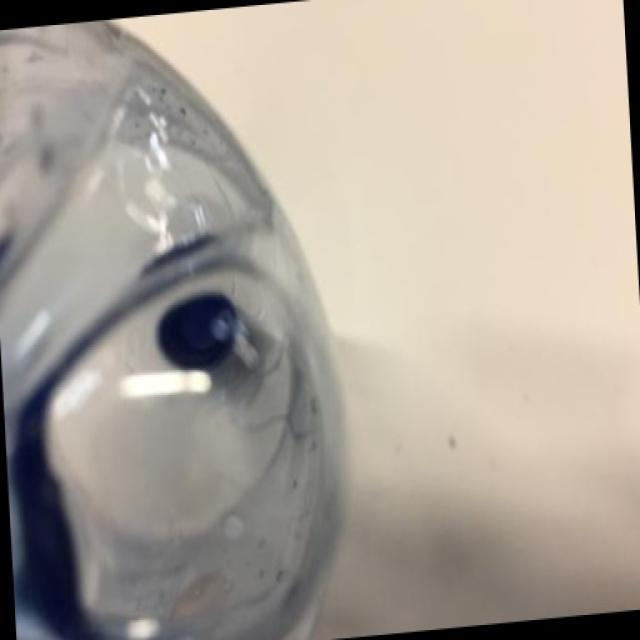plastico: (0, 20, 379, 640)
